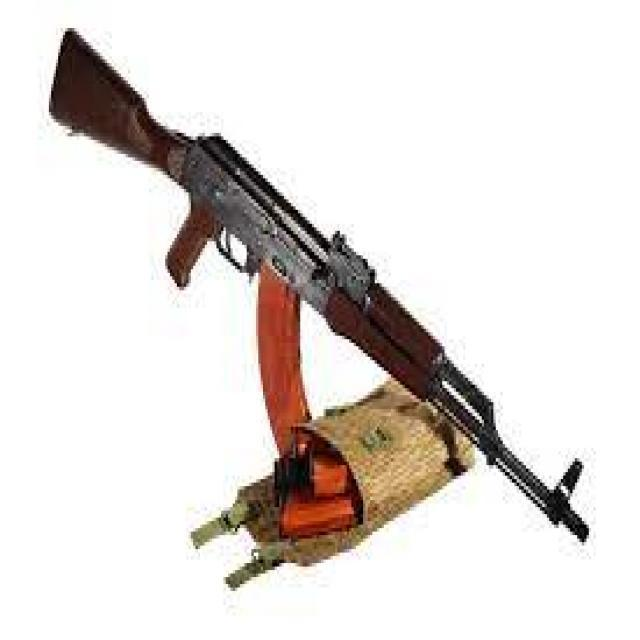weapon: (48, 27, 590, 546)
